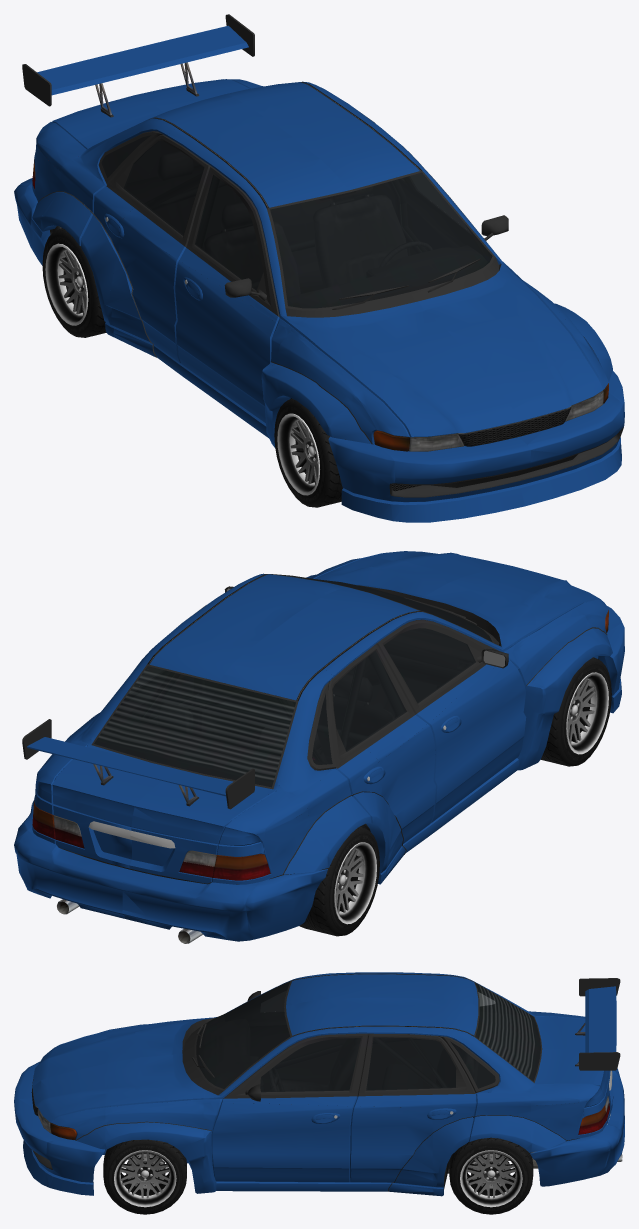
File: car_kiri_hi.glb
The picture shows the model from 3 angles, top to bottom: view 1: azimuth 30°, elevation 25°; view 2: azimuth 150°, elevation 25°; view 3: azimuth 270°, elevation 25°; orthographic projection. The views are drawn at different scales.
Visible parts, largest first — view 1: roof, door.R, cockpit, nose.R, chassis, nose.L, bonnet, quarter.R, fender.R, WheelFrontR, WheelRearR, deck (+2 smaller); view 2: roof, door.R, tail.R, cockpit, chassis, tail.L, deck, quarter.R, WheelRearR, fender.R, WheelFrontR, nose.R (+2 smaller); view 3: roof, door.L, cockpit, chassis, nose.L, tail.L, quarter.L, WheelRearL, WheelFrontL, fender.L, deck, bonnet (+2 smaller).
Boxes of the visible parts, x1=… form: roof: x1=34, y1=25, x2=535, y2=355; door.R: x1=97, y1=129, x2=293, y2=447; cockpit: x1=102, y1=133, x2=491, y2=307; nose.R: x1=328, y1=355, x2=530, y2=522; chassis: x1=22, y1=14, x2=623, y2=497; nose.L: x1=470, y1=337, x2=624, y2=506; bonnet: x1=290, y1=273, x2=583, y2=394; quarter.R: x1=41, y1=160, x2=134, y2=337; fender.R: x1=261, y1=332, x2=367, y2=447; WheelFrontR: x1=274, y1=398, x2=345, y2=507; WheelRearR: x1=42, y1=228, x2=106, y2=337; deck: x1=70, y1=81, x2=332, y2=200; roof: x1=27, y1=566, x2=535, y2=857; door.R: x1=308, y1=618, x2=545, y2=878; tail.R: x1=121, y1=754, x2=327, y2=941; cockpit: x1=94, y1=595, x2=491, y2=787; chassis: x1=22, y1=574, x2=607, y2=943; tail.L: x1=14, y1=740, x2=184, y2=918; deck: x1=71, y1=633, x2=361, y2=797; quarter.R: x1=299, y1=749, x2=391, y2=884; WheelRearR: x1=299, y1=826, x2=379, y2=936; fender.R: x1=518, y1=607, x2=610, y2=765; WheelFrontR: x1=541, y1=657, x2=611, y2=766; nose.R: x1=470, y1=565, x2=624, y2=713; roof: x1=120, y1=972, x2=616, y2=1117; door.L: x1=203, y1=1032, x2=500, y2=1195; cockpit: x1=196, y1=981, x2=540, y2=1107; chassis: x1=31, y1=973, x2=622, y2=1191; nose.L: x1=14, y1=1064, x2=105, y2=1195; tail.L: x1=530, y1=1041, x2=624, y2=1186; quarter.L: x1=432, y1=1092, x2=530, y2=1196; WheelRearL: x1=449, y1=1137, x2=533, y2=1214; WheelFrontL: x1=103, y1=1139, x2=186, y2=1214; fender.L: x1=105, y1=1100, x2=203, y2=1193; deck: x1=432, y1=973, x2=530, y2=1094; bonnet: x1=105, y1=1018, x2=203, y2=1113.
Bounding box in the file's own units: 1.82 × 1.32 × 4.4.
6 materials, 5 textured.
